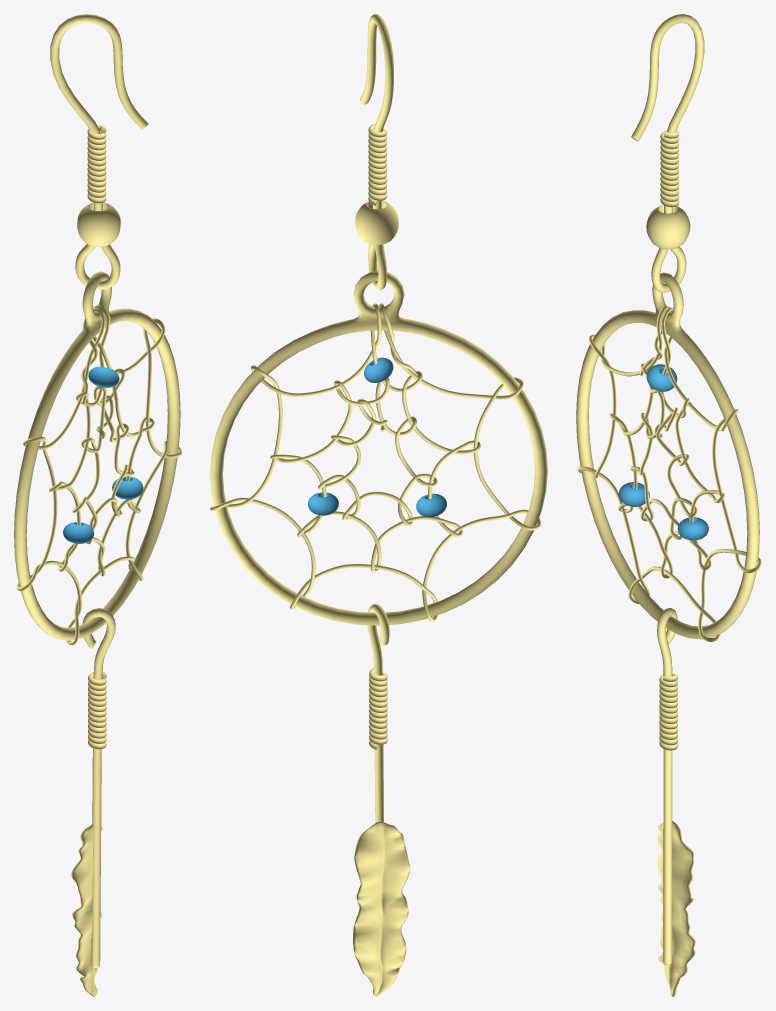
3 renders of one model, left to right at view 1: azimuth 30°, elevation 25°; view 2: azimuth 150°, elevation 25°; view 3: azimuth 270°, elevation 25°, orthographic.
Visible parts, largest first — view 1: 11762_Earrings_v1_l2; view 2: 11762_Earrings_v1_l2; view 3: 11762_Earrings_v1_l2.
Boxes of the visible parts, x1,y1,x2,y2 form: 11762_Earrings_v1_l2: (14,14,181,996); 11762_Earrings_v1_l2: (210,14,547,996); 11762_Earrings_v1_l2: (576,14,761,996).
Bounding box in the file's own units: 0.0142 × 0.0532 × 0.00915.
